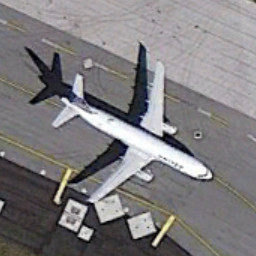Airplane: (37, 47, 224, 221)
